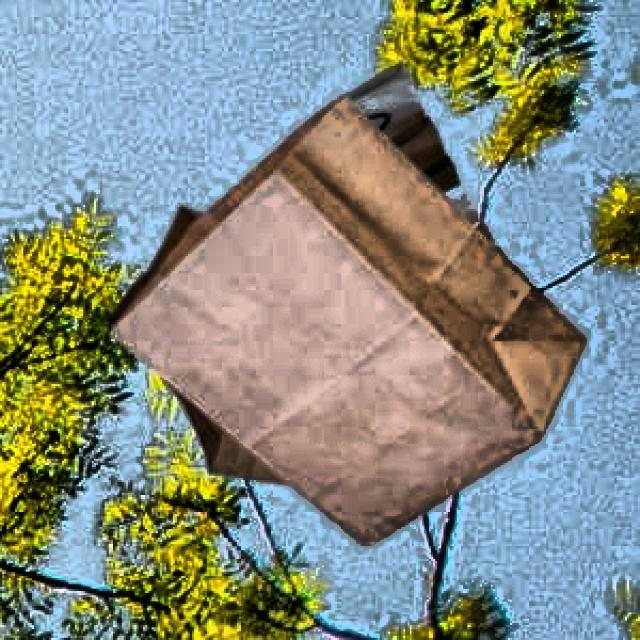Paper-bag: (118, 94, 590, 556)
